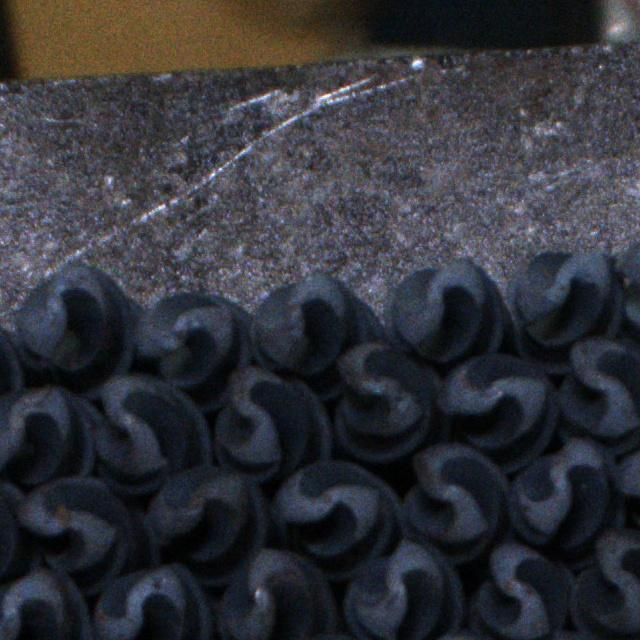tool_b: (8, 268, 143, 400), (246, 274, 382, 398), (17, 478, 158, 596), (270, 459, 404, 577), (507, 437, 626, 568), (142, 464, 267, 583), (506, 248, 622, 373), (89, 374, 211, 492), (333, 346, 453, 464), (437, 356, 558, 473), (133, 292, 252, 410), (210, 367, 330, 482), (382, 257, 512, 361), (402, 443, 511, 563), (346, 538, 467, 638), (217, 551, 338, 640), (469, 545, 577, 640), (557, 334, 640, 451), (0, 386, 98, 485), (94, 565, 217, 640), (570, 528, 640, 639), (0, 570, 89, 640), (0, 476, 39, 591), (614, 421, 640, 555), (0, 302, 24, 424)
